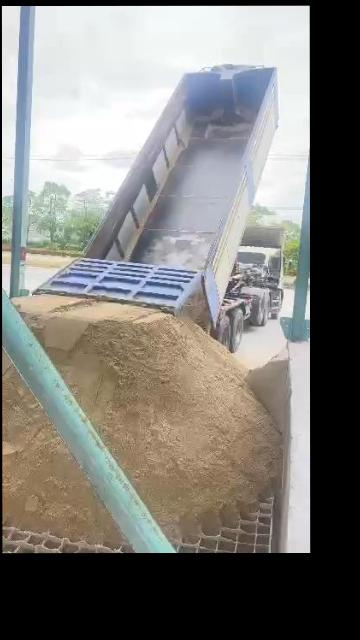sand: (18, 296, 280, 537), (2, 355, 119, 544), (248, 350, 290, 434)
